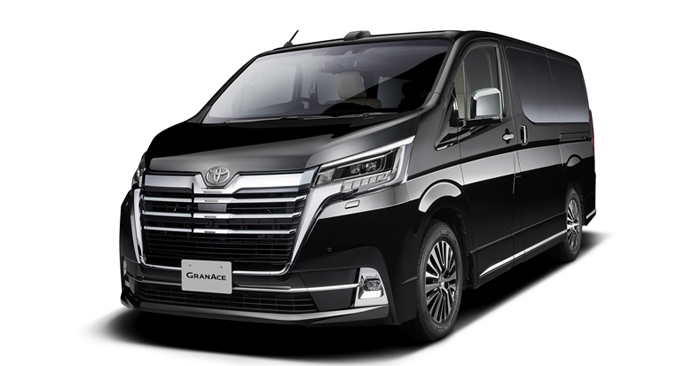van: (118, 28, 598, 348)
